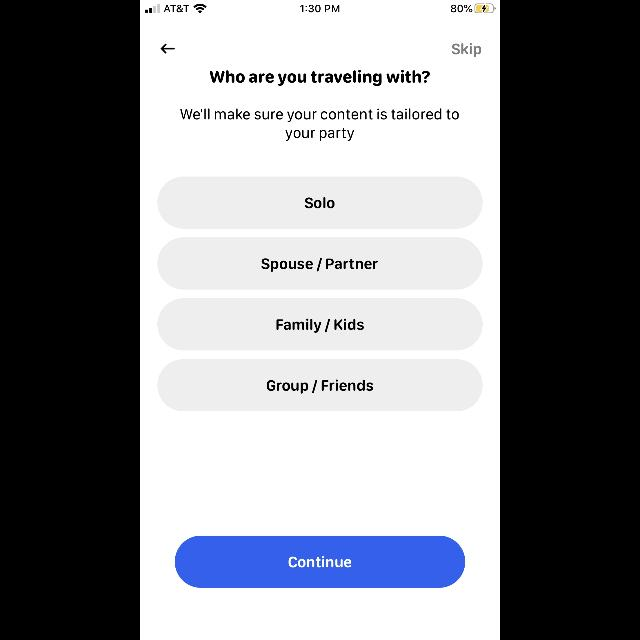icon: (160, 44, 176, 54)
text: (181, 108, 459, 142), (210, 70, 430, 86), (452, 43, 482, 57)
textbutton: (158, 177, 482, 229), (158, 238, 482, 290), (158, 298, 482, 350), (158, 359, 482, 411), (174, 536, 466, 588)
uppertaskbar: (140, 0, 500, 14)
